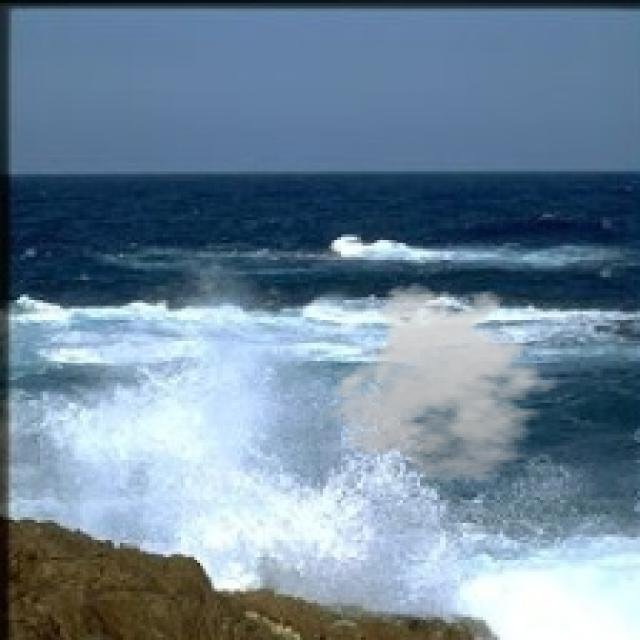smoke: (323, 283, 571, 486)
